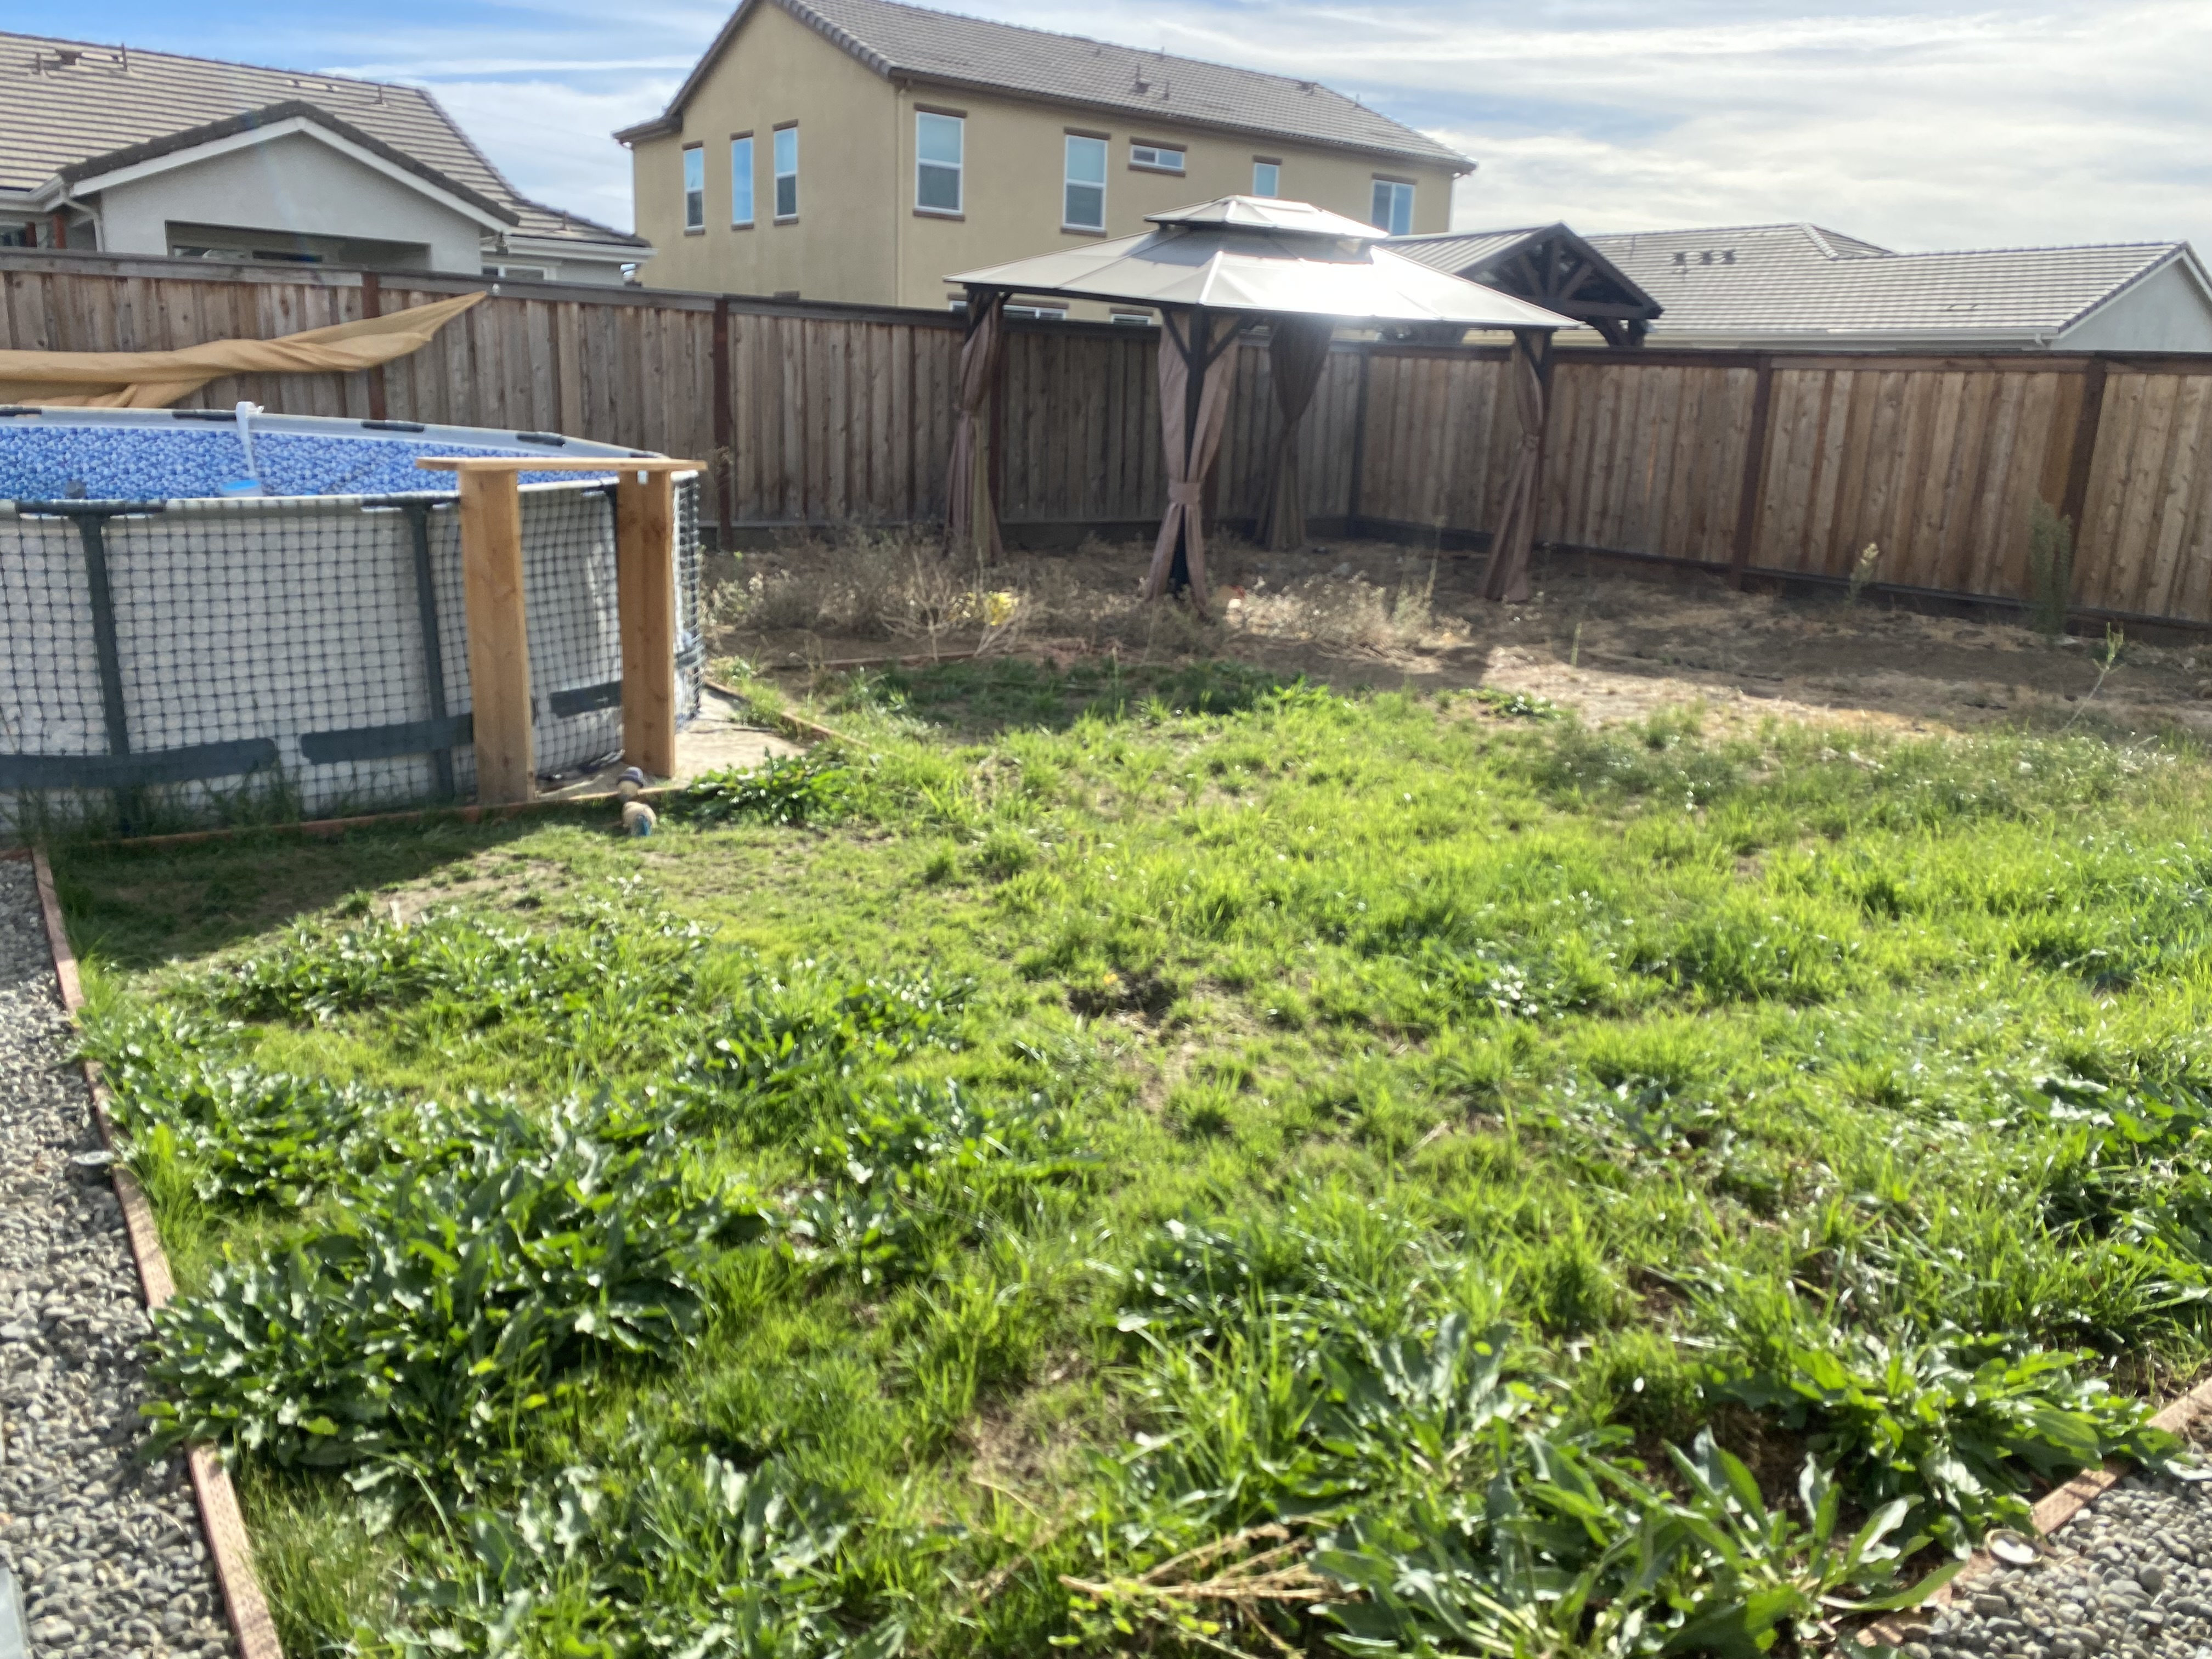weed: (1435, 1420, 1935, 1659), (1696, 1274, 2113, 1525), (1141, 1243, 1531, 1506), (442, 1462, 963, 1659), (246, 1197, 625, 1425), (152, 1032, 406, 1195), (705, 748, 876, 812)
